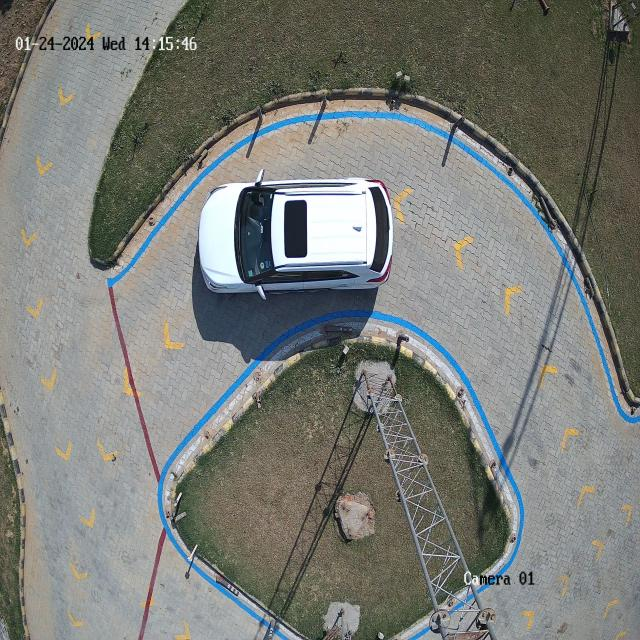car: (200, 177, 395, 292)
